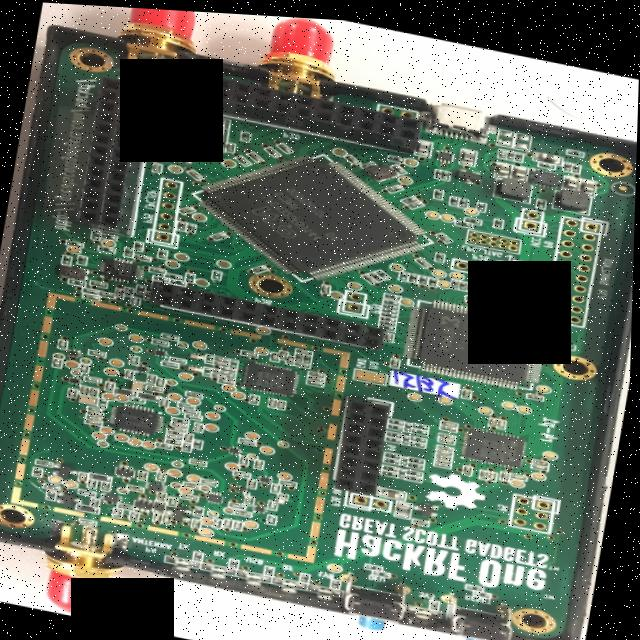-component text- -MAXIM MAX2837 ETM 509 8SY03AK-: (255, 365, 288, 389)
-component text- -MAXIM MAX5864 ETM 405 BQGT1AA-: (480, 429, 522, 458)
-component text- -NXP LPC4320FBD144 SC3N9 04 9SD15070C-: (245, 176, 351, 246)
-component text- -S15351 BMF020 1452-: (110, 259, 135, 278)
-component text- -T250 VU4T-: (62, 266, 85, 278)
-component text- -XILINX XC2C64A VQG100AMS1201 F4339159A 7C-: (437, 308, 511, 371)
-test point- J10: (354, 363, 391, 382)
-test point- UNKNOWN: (144, 459, 162, 471), (225, 458, 244, 469), (437, 390, 456, 401), (188, 470, 205, 482), (115, 430, 132, 442), (49, 473, 66, 485), (533, 464, 550, 476), (65, 358, 82, 370), (201, 524, 219, 535), (168, 465, 186, 476), (517, 398, 535, 409), (164, 256, 182, 267), (222, 380, 240, 391), (168, 390, 186, 401), (102, 390, 120, 401), (104, 365, 122, 376), (98, 335, 116, 346), (177, 109, 195, 120), (245, 516, 262, 527), (279, 467, 296, 478), (246, 427, 263, 438), (205, 420, 222, 431), (129, 435, 146, 446), (92, 429, 109, 440), (511, 472, 528, 483), (544, 443, 561, 454), (478, 399, 495, 410), (408, 386, 425, 397), (388, 278, 405, 289), (347, 276, 364, 287), (329, 286, 346, 297), (216, 256, 233, 267), (195, 275, 212, 286), (174, 249, 191, 260), (256, 323, 273, 334), (179, 369, 196, 380), (206, 408, 223, 419), (193, 337, 210, 348), (109, 356, 126, 367), (129, 332, 146, 343), (66, 244, 83, 255), (101, 236, 118, 247), (449, 265, 466, 276), (432, 263, 449, 274), (389, 257, 406, 268), (464, 200, 481, 211), (397, 170, 414, 181), (404, 152, 421, 163), (331, 143, 348, 154), (221, 155, 238, 166), (167, 161, 184, 172), (186, 394, 204, 404), (202, 513, 218, 524), (172, 457, 188, 468), (116, 391, 132, 402), (495, 253, 511, 264), (261, 442, 278, 452), (65, 479, 82, 489), (437, 274, 454, 284), (192, 210, 209, 220), (180, 483, 195, 494), (102, 424, 117, 435), (503, 394, 518, 405), (538, 377, 553, 388), (498, 274, 513, 285), (425, 204, 440, 215), (233, 388, 249, 398), (401, 292, 415, 303), (207, 506, 222, 516), (256, 343, 271, 353), (167, 404, 182, 414), (440, 207, 455, 217), (144, 438, 158, 448), (115, 321, 129, 331), (166, 376, 181, 385), (178, 338, 191, 348), (224, 503, 238, 512), (279, 436, 293, 445), (201, 481, 214, 490), (172, 479, 185, 488), (248, 449, 261, 458), (98, 438, 111, 447), (215, 401, 228, 410), (131, 343, 144, 352), (82, 355, 95, 364), (119, 485, 132, 494), (71, 368, 85, 376), (53, 351, 66, 358)
-test point- UNKNOWN-: (328, 559, 347, 570)
-test point- unknown: (610, 172, 637, 189)
2233: (383, 287, 404, 297), (565, 141, 585, 151), (97, 244, 117, 254), (475, 583, 495, 593), (383, 447, 405, 456), (463, 210, 483, 219), (366, 558, 386, 567), (454, 214, 473, 223), (152, 273, 171, 282), (66, 239, 85, 248), (408, 456, 427, 465), (409, 451, 428, 460), (122, 244, 135, 257), (265, 561, 278, 574), (76, 253, 90, 265), (382, 464, 400, 473), (406, 464, 426, 472), (432, 183, 445, 195), (239, 127, 252, 139), (332, 574, 345, 586), (390, 413, 407, 422), (168, 426, 187, 434), (374, 565, 393, 573), (468, 578, 487, 586), (382, 459, 401, 467), (384, 452, 403, 460), (386, 425, 405, 433), (387, 418, 406, 426), (47, 489, 60, 500), (173, 415, 193, 422), (380, 307, 400, 314), (387, 150, 404, 158), (166, 270, 183, 278), (101, 231, 118, 239), (387, 431, 404, 439), (379, 315, 398, 322), (458, 191, 469, 203), (493, 212, 505, 223), (133, 238, 144, 250), (136, 282, 147, 294), (194, 437, 206, 448), (408, 267, 419, 279), (379, 319, 397, 326), (383, 294, 401, 301), (448, 190, 459, 201), (475, 195, 486, 206), (536, 192, 547, 203), (176, 218, 187, 229), (194, 549, 205, 560), (231, 555, 242, 566), (302, 569, 313, 580), (435, 246, 446, 257), (195, 504, 206, 515), (561, 155, 573, 165), (157, 247, 169, 257), (33, 467, 45, 477), (418, 270, 430, 280), (167, 437, 184, 444), (403, 190, 416, 199), (371, 267, 384, 276), (381, 311, 397, 318), (571, 157, 582, 167), (432, 594, 442, 605), (498, 282, 509, 292), (483, 279, 493, 290), (467, 276, 477, 287), (459, 275, 469, 286), (451, 273, 461, 284), (428, 272, 439, 282), (185, 221, 197, 230), (381, 303, 399, 309), (376, 266, 389, 274), (408, 470, 425, 476), (383, 299, 400, 305), (475, 278, 485, 288), (514, 146, 524, 155), (506, 144, 515, 154), (303, 350, 313, 359), (434, 164, 443, 173), (442, 166, 451, 175), (296, 349, 305, 358), (491, 281, 499, 291)
2234: (144, 288, 153, 299)
2318: (599, 249, 615, 279)
2381: (336, 506, 554, 563)
2385: (330, 523, 553, 593)
2409: (460, 238, 504, 252)
2411: (143, 186, 159, 209)
2497: (330, 483, 347, 504)
2628: (49, 70, 99, 233)
2634: (536, 407, 564, 438)
2698: (515, 279, 530, 292)
2699: (318, 566, 340, 576)
2743: (421, 585, 440, 596)
2825: (132, 533, 178, 549)
3303: (367, 568, 391, 580)
3439: (355, 352, 370, 365), (471, 268, 484, 279)
3490: (368, 355, 382, 367)
3637: (528, 283, 541, 293)
3649: (279, 128, 303, 138)
3654: (142, 210, 156, 223)
3655: (471, 247, 490, 258)
3657: (253, 293, 274, 303)
3658: (371, 298, 384, 310)
3659: (485, 272, 498, 280)
3670: (143, 543, 164, 554)
3680: (498, 495, 511, 507)
3687: (543, 233, 556, 243)
3688: (387, 438, 400, 448)
3715: (597, 280, 610, 293)
4204: (465, 588, 498, 601)
4205: (283, 559, 298, 569)
4236: (214, 546, 230, 556)
4301: (545, 586, 560, 595), (550, 557, 564, 566)
4337: (178, 538, 194, 549)
4375: (245, 552, 268, 563)
4387: (530, 229, 543, 242)
4466: (57, 489, 86, 507), (167, 503, 194, 522), (415, 496, 442, 513), (54, 463, 80, 480), (456, 163, 483, 179)
4489: (553, 181, 593, 209), (495, 169, 534, 197), (208, 114, 230, 150), (395, 495, 416, 515), (459, 142, 478, 161), (415, 134, 432, 153), (80, 393, 100, 406), (77, 503, 103, 513), (90, 471, 115, 481), (139, 390, 163, 400), (116, 385, 139, 395), (152, 335, 173, 345), (239, 434, 260, 444), (88, 347, 109, 357), (80, 516, 101, 526), (155, 498, 169, 513), (161, 330, 181, 340), (240, 346, 260, 356), (169, 353, 189, 363), (162, 357, 182, 367), (234, 467, 254, 476), (230, 498, 250, 507), (85, 374, 104, 383), (190, 349, 207, 359), (132, 378, 145, 391), (268, 510, 281, 523), (279, 489, 292, 502), (307, 376, 327, 384), (436, 447, 456, 455), (105, 379, 118, 391), (218, 375, 237, 383), (179, 399, 198, 407), (156, 440, 175, 448), (281, 476, 300, 484), (202, 476, 221, 484), (80, 488, 99, 496), (183, 491, 202, 499), (194, 419, 206, 431), (188, 363, 205, 371), (186, 411, 205, 418), (497, 142, 508, 154), (130, 352, 141, 364), (126, 367, 137, 379), (157, 375, 168, 387), (157, 469, 169, 480), (214, 515, 225, 527), (269, 497, 281, 508), (436, 452, 454, 459), (184, 406, 202, 413), (399, 266, 410, 277), (124, 285, 135, 296), (250, 391, 261, 402), (81, 362, 92, 373), (68, 387, 79, 398), (53, 357, 65, 367), (184, 439, 194, 451), (272, 480, 284, 490), (155, 509, 165, 521), (169, 494, 181, 504), (225, 515, 235, 527), (83, 287, 100, 294), (212, 370, 229, 377), (222, 363, 239, 370), (436, 456, 453, 463), (168, 432, 185, 439), (100, 290, 116, 297), (213, 365, 229, 372), (173, 424, 189, 431), (99, 397, 110, 407), (227, 368, 238, 378), (241, 453, 252, 463), (115, 506, 126, 516), (131, 510, 142, 520), (164, 512, 174, 523), (193, 516, 203, 527), (89, 405, 107, 411), (87, 414, 104, 420), (59, 339, 69, 349), (161, 395, 170, 406), (89, 478, 100, 487), (230, 356, 239, 366), (132, 295, 142, 304), (131, 395, 145, 401), (186, 431, 195, 440), (236, 518, 245, 527)
button DFU: (343, 578, 410, 631)
button RESET: (444, 597, 518, 640)
capacitor Vrough: (532, 144, 563, 158), (378, 482, 409, 495), (579, 170, 597, 189), (509, 158, 529, 175), (561, 167, 580, 184), (494, 155, 511, 173), (262, 141, 283, 155), (245, 147, 266, 161), (185, 165, 206, 179), (415, 251, 434, 264), (275, 139, 295, 150), (233, 152, 253, 163), (190, 455, 211, 465), (465, 288, 485, 298), (557, 334, 577, 344), (251, 261, 269, 272), (211, 228, 228, 239), (343, 150, 360, 161), (413, 512, 433, 521), (441, 414, 461, 423), (436, 228, 454, 238), (537, 154, 556, 163), (44, 482, 63, 491), (83, 292, 102, 301), (134, 251, 153, 260), (179, 203, 196, 213), (363, 268, 378, 279), (388, 178, 403, 189), (408, 194, 423, 205), (463, 459, 476, 471), (129, 483, 148, 491), (534, 452, 553, 460), (441, 419, 460, 427), (89, 279, 108, 287), (172, 419, 191, 427), (277, 396, 289, 408), (462, 382, 474, 394), (390, 353, 402, 365), (149, 265, 167, 273), (513, 466, 530, 474), (236, 507, 255, 514), (186, 389, 205, 396), (294, 357, 313, 364), (249, 475, 260, 487), (140, 468, 151, 480), (152, 161, 164, 172), (520, 293, 531, 305), (37, 459, 55, 466), (86, 418, 104, 425), (87, 409, 105, 416), (438, 439, 456, 446), (439, 432, 457, 439), (440, 427, 458, 434), (528, 387, 546, 394), (309, 367, 327, 374), (309, 371, 327, 378), (297, 345, 315, 352), (92, 496, 103, 507), (271, 348, 282, 359), (79, 471, 91, 481), (148, 383, 165, 390), (533, 457, 550, 464), (439, 443, 455, 450), (148, 372, 159, 382), (502, 464, 512, 475), (489, 465, 499, 476), (480, 463, 490, 474), (498, 413, 509, 423), (490, 411, 500, 422), (321, 280, 332, 290), (199, 139, 209, 150), (216, 353, 231, 360), (185, 480, 202, 486), (256, 456, 266, 466), (246, 492, 257, 501), (270, 394, 279, 405), (385, 328, 396, 337), (215, 357, 229, 364), (120, 502, 136, 508), (103, 480, 112, 490), (81, 384, 90, 394), (280, 347, 289, 357), (116, 287, 125, 297), (159, 490, 168, 499), (91, 386, 100, 395), (287, 352, 296, 361), (226, 140, 235, 149)
connector: (374, 98, 421, 115)
connector P10: (509, 252, 537, 279)
connector P21: (182, 70, 423, 149)
connector P26: (150, 175, 185, 244)
connector P27: (465, 223, 522, 249)
connector P29: (148, 280, 386, 346)
connector P3: (343, 285, 370, 312)
connector P30: (451, 252, 495, 272)
connector P31: (544, 208, 603, 321)
connector P37: (350, 488, 395, 508)
connector P40: (41, 517, 131, 621)
connector P50: (511, 486, 558, 528)
connector P9: (518, 201, 546, 228)
connector RUN: (332, 389, 393, 492)
connector USB: (76, 73, 159, 236), (251, 12, 345, 98), (109, 5, 201, 83), (423, 94, 494, 139)
ic UNKNOWN: (408, 294, 546, 385), (464, 420, 531, 465), (148, 115, 202, 163), (243, 357, 301, 395), (109, 400, 168, 437), (98, 253, 146, 285), (529, 161, 562, 183), (367, 157, 400, 178), (59, 264, 90, 280), (116, 461, 138, 479), (135, 495, 156, 511), (435, 143, 456, 159), (146, 478, 170, 490), (102, 490, 125, 502), (207, 488, 225, 503), (255, 501, 271, 512), (260, 471, 275, 482), (68, 347, 83, 358), (155, 346, 171, 356), (137, 362, 153, 372), (229, 443, 244, 453), (70, 375, 83, 385)
ic unknown: (188, 131, 440, 297)
led 1V8: (307, 579, 347, 610)
led 3V3: (405, 599, 447, 627)
led RF: (271, 573, 310, 602)
led RX: (201, 559, 238, 588)
led TX: (165, 553, 204, 582)
led USB: (235, 565, 275, 595)
pads unknown: (494, 123, 513, 142), (513, 126, 532, 145), (211, 266, 225, 279), (170, 276, 187, 285), (411, 435, 430, 443), (412, 423, 431, 431), (413, 418, 432, 426), (68, 278, 87, 286), (91, 229, 102, 241), (62, 254, 73, 265), (186, 270, 197, 281), (399, 463, 409, 475), (405, 416, 414, 428), (206, 351, 216, 361), (403, 429, 412, 440), (204, 363, 213, 374), (402, 450, 410, 462), (412, 431, 428, 437)
